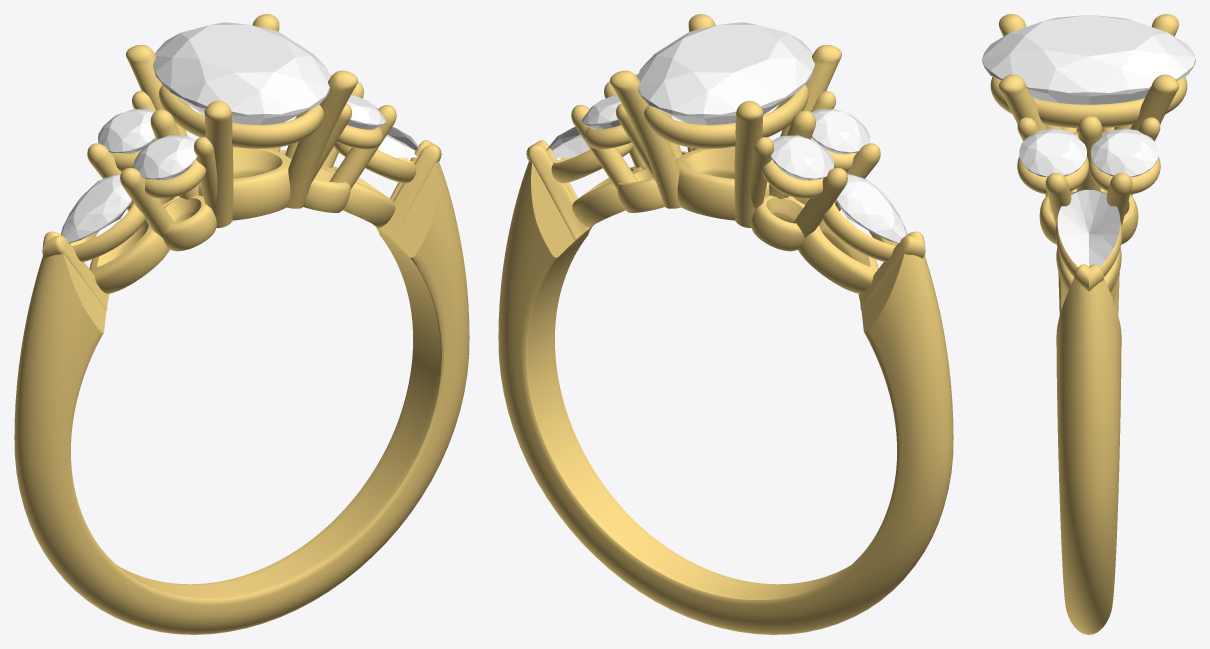
Rendered from RyanYG_webgi.glb.
The picture shows the model from 3 angles, left to right: view 1: azimuth 30°, elevation 25°; view 2: azimuth 150°, elevation 25°; view 3: azimuth 270°, elevation 25°; orthographic projection.
Parts seen in each view (by area): view 1: Ryan_YG_for_3d_model, Ryan_sapph_for_3d_model, Ryan_dia_for_3d_model, Ryan_dia_for_3d_model005, Ryan_dia_for_3d_model001, Ryan_dia_for_3d_model004, Ryan_dia_for_3d_model002; view 2: Ryan_YG_for_3d_model, Ryan_sapph_for_3d_model, Ryan_dia_for_3d_model, Ryan_dia_for_3d_model001, Ryan_dia_for_3d_model005, Ryan_dia_for_3d_model003, Ryan_dia_for_3d_model002; view 3: Ryan_YG_for_3d_model, Ryan_sapph_for_3d_model, Ryan_dia_for_3d_model002, Ryan_dia_for_3d_model004, Ryan_dia_for_3d_model003.
Boxes of the visible parts, left/top/right/bottom form: Ryan_YG_for_3d_model: left=14, top=14, right=469, bottom=634; Ryan_sapph_for_3d_model: left=153, top=22, right=330, bottom=124; Ryan_dia_for_3d_model: left=61, top=174, right=131, bottom=243; Ryan_dia_for_3d_model005: left=134, top=135, right=197, bottom=180; Ryan_dia_for_3d_model001: left=98, top=109, right=155, bottom=153; Ryan_dia_for_3d_model004: left=346, top=95, right=385, bottom=129; Ryan_dia_for_3d_model002: left=377, top=126, right=421, bottom=158; Ryan_YG_for_3d_model: left=498, top=14, right=953, bottom=634; Ryan_sapph_for_3d_model: left=637, top=22, right=814, bottom=124; Ryan_dia_for_3d_model: left=836, top=174, right=906, bottom=243; Ryan_dia_for_3d_model001: left=770, top=135, right=833, bottom=180; Ryan_dia_for_3d_model005: left=811, top=109, right=869, bottom=153; Ryan_dia_for_3d_model003: left=582, top=95, right=621, bottom=129; Ryan_dia_for_3d_model002: left=546, top=126, right=590, bottom=158; Ryan_YG_for_3d_model: left=990, top=14, right=1187, bottom=634; Ryan_sapph_for_3d_model: left=982, top=15, right=1195, bottom=104; Ryan_dia_for_3d_model002: left=1057, top=189, right=1120, bottom=266; Ryan_dia_for_3d_model004: left=1019, top=128, right=1086, bottom=177; Ryan_dia_for_3d_model003: left=1091, top=128, right=1158, bottom=177.
Size of the model in its own units: 2.44 by 3.01 by 1.01.
